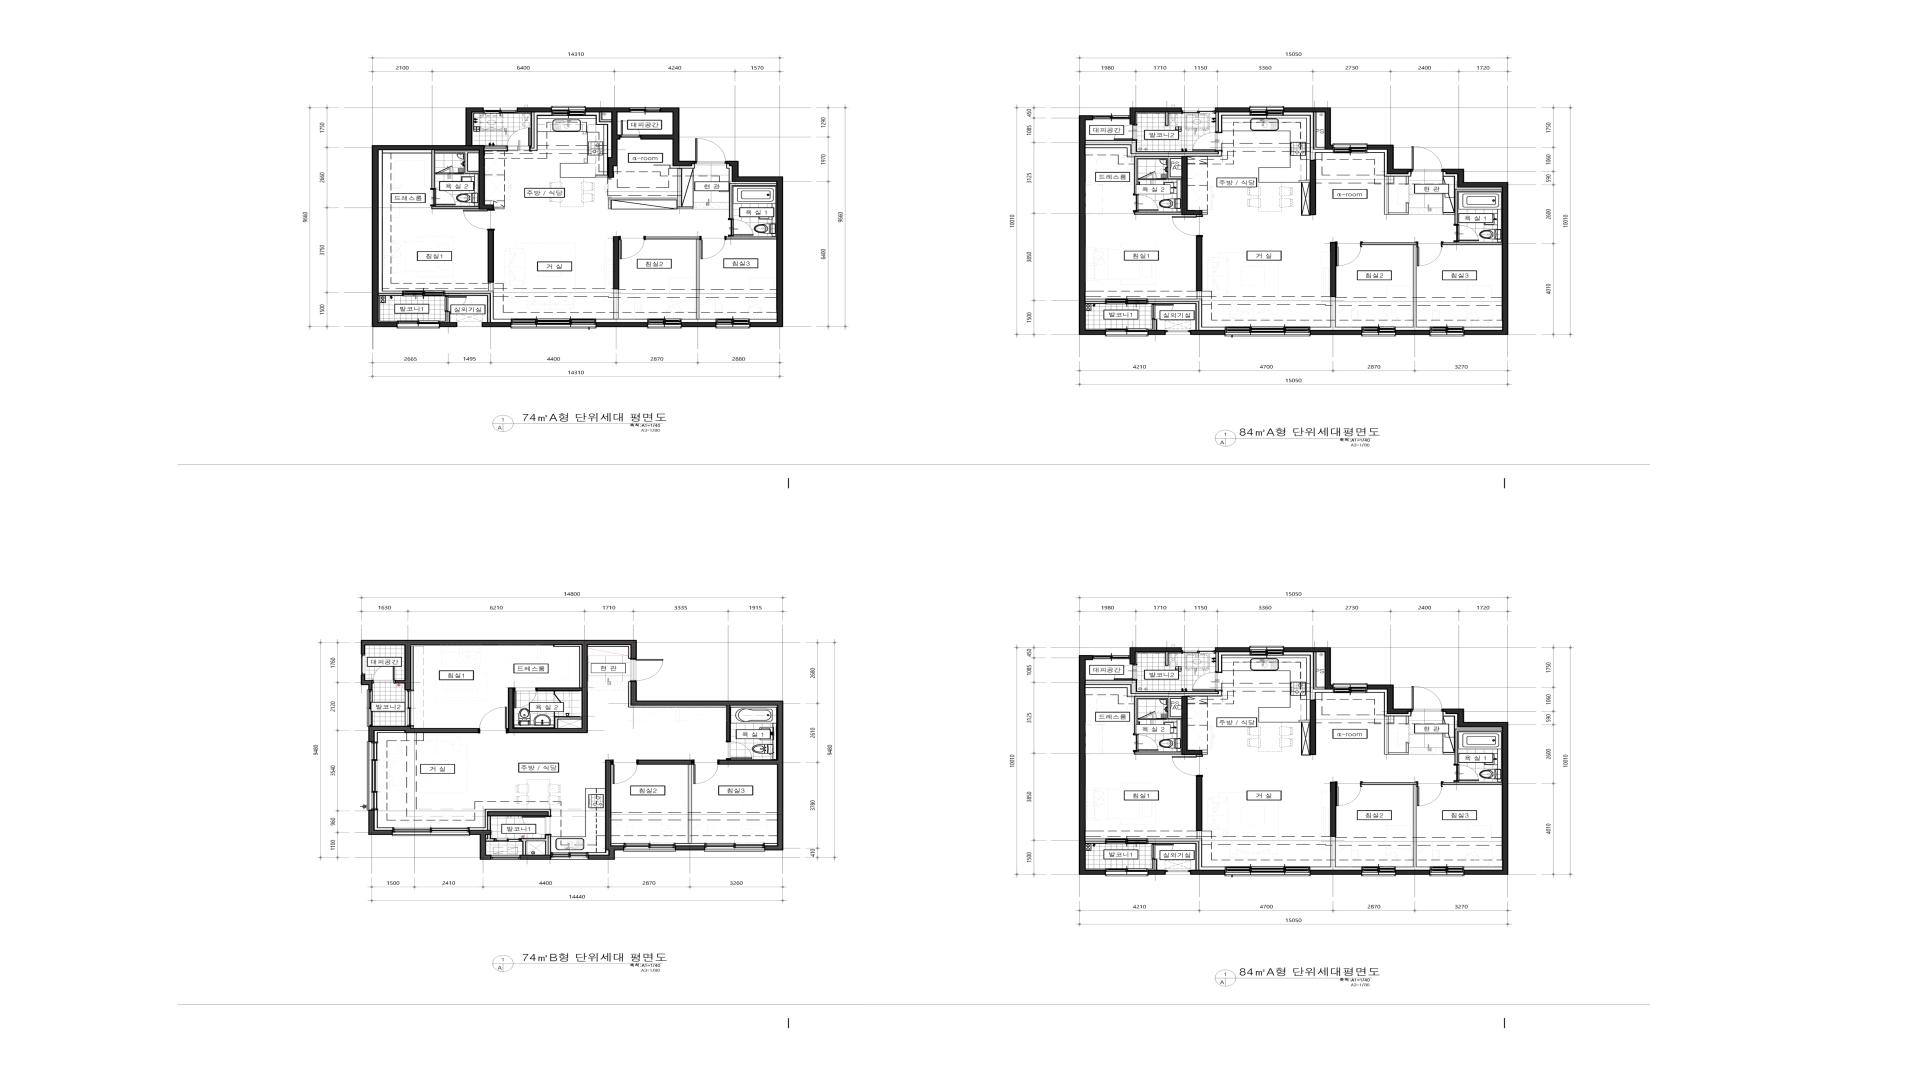door: (732, 661, 764, 687), (655, 708, 687, 735), (1470, 736, 1503, 761), (1470, 196, 1503, 222), (658, 127, 691, 152), (1160, 222, 1195, 245), (430, 781, 463, 804), (596, 274, 629, 298), (1160, 762, 1195, 785), (1385, 137, 1415, 158), (597, 814, 624, 837), (1379, 678, 1411, 698), (439, 318, 465, 342), (1302, 150, 1331, 171), (534, 135, 563, 156), (411, 696, 442, 716), (369, 703, 394, 727), (539, 692, 566, 715), (678, 814, 704, 836), (1408, 795, 1435, 818), (1408, 256, 1435, 278), (1328, 256, 1354, 278), (534, 199, 563, 219), (1283, 692, 1308, 715), (1425, 687, 1451, 709), (1329, 795, 1354, 818), (447, 269, 472, 291), (1100, 684, 1125, 707), (596, 198, 624, 215), (1364, 208, 1386, 228), (409, 761, 434, 778), (712, 796, 737, 814), (1139, 202, 1164, 219), (625, 253, 650, 270), (1139, 741, 1164, 758), (1365, 749, 1386, 769), (382, 869, 406, 885), (642, 356, 666, 372), (1114, 851, 1137, 866), (1113, 311, 1137, 326), (425, 347, 463, 355), (1369, 127, 1406, 135), (417, 682, 454, 688), (1369, 667, 1406, 674), (414, 737, 431, 746), (1146, 178, 1163, 187), (626, 231, 644, 239), (1146, 719, 1163, 727), (369, 752, 396, 756), (1323, 766, 1349, 770), (584, 786, 609, 790), (1101, 193, 1126, 196), (1319, 227, 1344, 231), (1427, 729, 1451, 733), (1427, 181, 1451, 185), (611, 125, 637, 128), (658, 245, 683, 248), (1101, 733, 1126, 736)
wall: (596, 152, 741, 388), (687, 732, 806, 909), (609, 617, 732, 738), (446, 58, 661, 127), (1466, 761, 1540, 902), (1466, 222, 1540, 363), (1451, 128, 1540, 196), (1072, 663, 1100, 882), (1451, 669, 1540, 736), (1072, 124, 1100, 342), (342, 683, 368, 901), (603, 167, 663, 253), (1354, 256, 1408, 342), (1280, 171, 1357, 228), (463, 156, 562, 199), (1364, 164, 1427, 228), (411, 683, 504, 721), (1361, 704, 1414, 767), (704, 764, 764, 818), (1354, 795, 1408, 852), (624, 815, 678, 870), (758, 617, 796, 687), (396, 723, 463, 761), (566, 688, 628, 729), (609, 732, 653, 787), (1349, 124, 1411, 162), (1349, 663, 1411, 702), (700, 761, 764, 796), (462, 320, 493, 388), (1141, 164, 1195, 202), (1141, 703, 1195, 741), (1141, 727, 1188, 762), (409, 746, 456, 781), (1141, 187, 1188, 222), (400, 214, 459, 240), (1125, 690, 1229, 703), (400, 302, 426, 353), (1344, 171, 1365, 228), (566, 733, 584, 787), (770, 624, 785, 687), (1349, 712, 1365, 769), (700, 725, 804, 732), (1311, 713, 1323, 767), (1126, 663, 1236, 669), (1126, 124, 1236, 129), (1170, 307, 1189, 336), (1323, 256, 1329, 342), (1170, 336, 1211, 349), (439, 895, 479, 909), (463, 219, 562, 224), (438, 866, 480, 878), (1170, 848, 1212, 860), (1170, 877, 1211, 889), (601, 353, 616, 382), (1263, 688, 1283, 709), (456, 804, 463, 864), (596, 215, 603, 274), (1188, 245, 1195, 305), (1188, 785, 1195, 844), (1303, 669, 1321, 690), (591, 815, 597, 870), (1323, 795, 1329, 851), (1303, 132, 1321, 150), (596, 298, 603, 349), (394, 683, 417, 696), (1270, 124, 1324, 129), (410, 309, 436, 319), (1270, 663, 1323, 669), (1308, 704, 1357, 709), (456, 742, 463, 781), (1188, 183, 1195, 222), (1188, 724, 1195, 762), (596, 108, 611, 125), (538, 683, 583, 688), (655, 873, 695, 878), (1387, 344, 1427, 349), (1387, 855, 1427, 860), (655, 903, 695, 909), (1387, 884, 1425, 889), (472, 269, 476, 319), (459, 705, 496, 711), (1406, 128, 1424, 138), (579, 382, 616, 388), (603, 270, 650, 274), (764, 725, 770, 753), (1406, 669, 1424, 678), (574, 873, 604, 878), (1305, 344, 1336, 349), (1305, 884, 1336, 889), (1305, 855, 1336, 860), (574, 903, 604, 909), (452, 149, 459, 173), (1080, 307, 1118, 311), (1191, 132, 1195, 164), (1477, 855, 1498, 860), (661, 158, 741, 160), (558, 108, 562, 135), (1080, 698, 1100, 703), (409, 269, 447, 272), (1080, 848, 1118, 851), (349, 866, 386, 869), (662, 353, 699, 356), (421, 320, 439, 326), (746, 873, 764, 878), (400, 268, 406, 281), (1435, 256, 1466, 258), (1410, 700, 1425, 705), (1451, 700, 1466, 705), (349, 717, 369, 721), (1435, 795, 1462, 798), (394, 717, 411, 721), (529, 705, 541, 711), (661, 372, 666, 382), (679, 272, 699, 274), (1085, 760, 1105, 762), (661, 382, 670, 388), (378, 895, 386, 901), (382, 885, 386, 895), (1110, 336, 1118, 342), (683, 244, 699, 247), (1114, 326, 1118, 336), (1358, 164, 1364, 171), (1110, 877, 1118, 882), (1114, 866, 1118, 877), (1085, 732, 1101, 735), (1414, 728, 1428, 731), (1126, 732, 1141, 735), (650, 741, 653, 753), (353, 779, 375, 781), (1451, 728, 1461, 731), (1085, 220, 1105, 222), (353, 752, 369, 753), (1085, 193, 1101, 194), (1126, 193, 1141, 194), (637, 124, 650, 125), (1451, 181, 1461, 182)
window: (1211, 340, 1305, 351), (479, 903, 574, 910), (1211, 884, 1305, 890), (480, 869, 574, 876), (493, 378, 579, 385), (1211, 851, 1305, 856), (1336, 340, 1387, 349), (1427, 340, 1477, 349), (386, 862, 438, 869), (604, 869, 655, 876), (695, 869, 746, 876), (1118, 336, 1170, 343), (1118, 303, 1170, 310), (493, 385, 579, 389), (1118, 843, 1170, 849), (1118, 877, 1170, 884), (456, 171, 464, 214), (456, 108, 464, 149), (1229, 690, 1263, 699), (1236, 124, 1270, 133), (496, 705, 529, 715), (386, 897, 439, 902), (1425, 884, 1478, 889), (604, 903, 655, 909), (695, 903, 746, 909), (1336, 884, 1387, 889), (1425, 851, 1477, 856), (1336, 851, 1387, 856), (616, 349, 662, 355), (1100, 124, 1126, 133), (1324, 124, 1349, 133), (1424, 129, 1451, 137), (729, 617, 758, 624), (404, 240, 410, 268), (1236, 663, 1270, 669), (616, 382, 661, 386), (452, 173, 456, 214), (452, 109, 456, 149), (352, 895, 378, 901), (1084, 336, 1110, 342), (404, 281, 410, 302), (1100, 663, 1126, 669), (1323, 663, 1349, 669), (1424, 669, 1451, 674), (1084, 877, 1110, 882), (504, 683, 538, 687), (670, 382, 695, 388), (616, 386, 661, 389), (400, 240, 404, 268), (368, 683, 394, 687), (583, 683, 609, 687), (400, 281, 404, 302)
